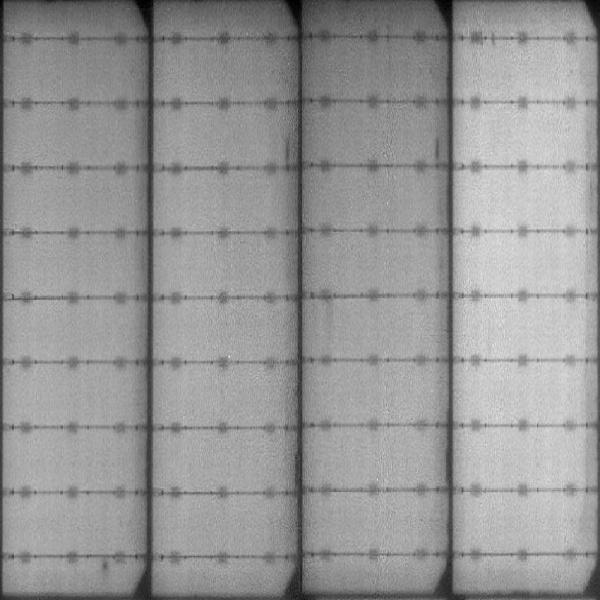scratch: (282, 135, 295, 166), (433, 134, 444, 166)
